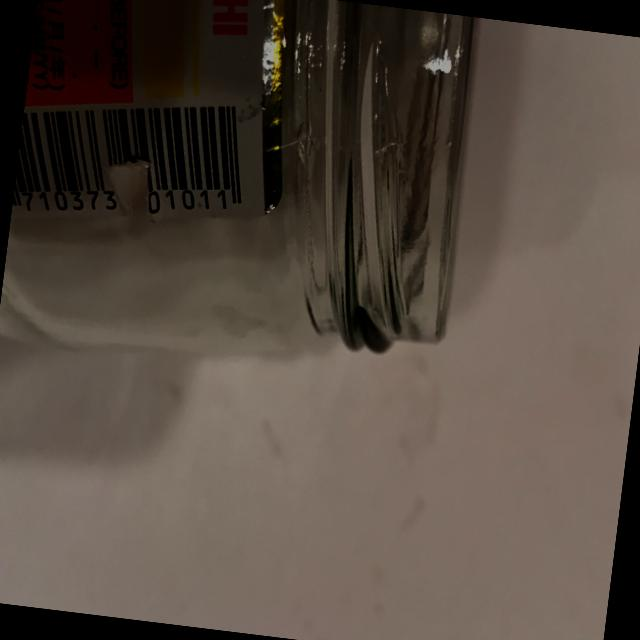Glass: (0, 0, 489, 410)
